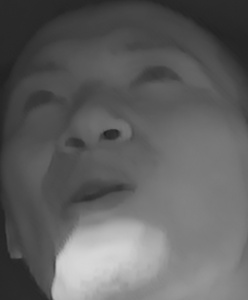eye: (126, 59, 186, 92), (17, 84, 66, 116)
mouth: (50, 163, 140, 219)
